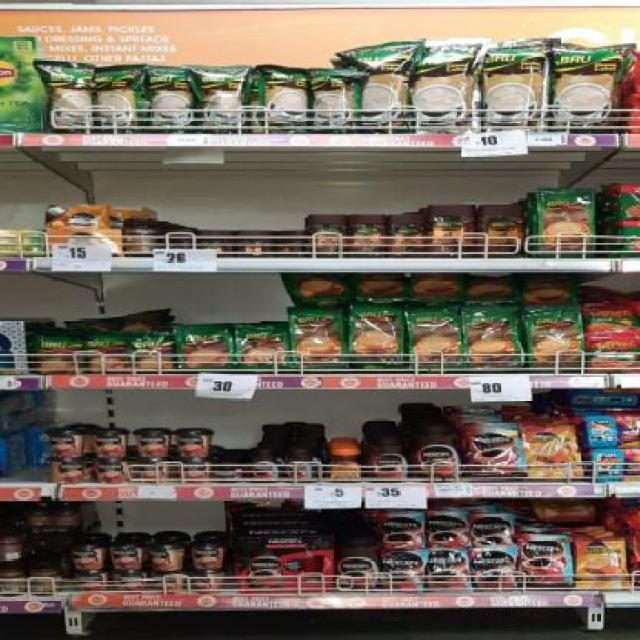Coffee: (465, 427, 526, 482), (524, 428, 582, 480), (410, 423, 461, 482), (575, 538, 630, 590), (518, 535, 572, 585), (334, 539, 380, 592), (423, 548, 469, 590), (368, 436, 408, 482), (470, 549, 514, 588), (380, 552, 423, 590), (426, 512, 468, 546), (382, 514, 421, 548), (472, 514, 510, 546), (328, 448, 360, 482), (282, 452, 315, 482), (247, 452, 280, 482), (212, 465, 245, 483)
